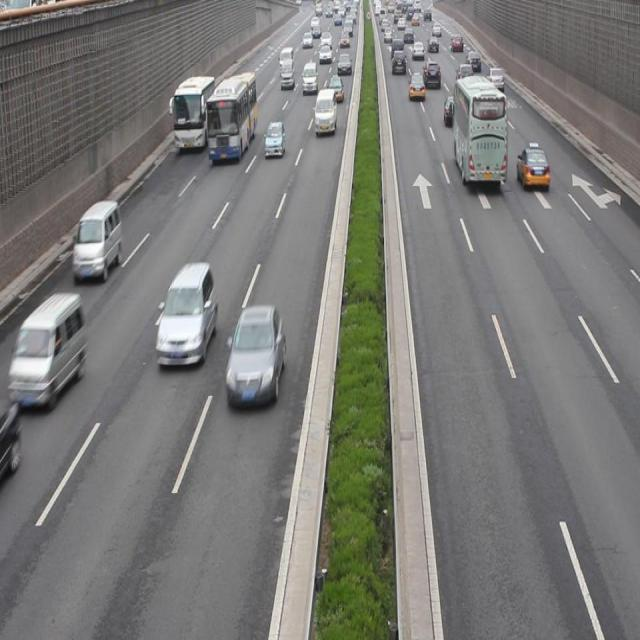car: (158, 263, 218, 371), (226, 304, 282, 407), (515, 144, 548, 190), (264, 120, 286, 156)
truck: (16, 295, 85, 410), (74, 203, 120, 279), (313, 89, 337, 134)
van: (452, 76, 505, 184), (205, 71, 258, 158), (171, 73, 213, 152)
